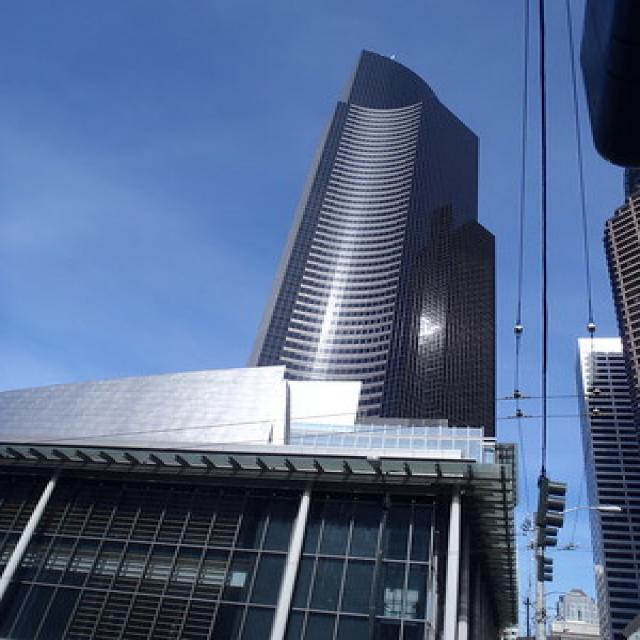Normal_building: (241, 42, 506, 470)
